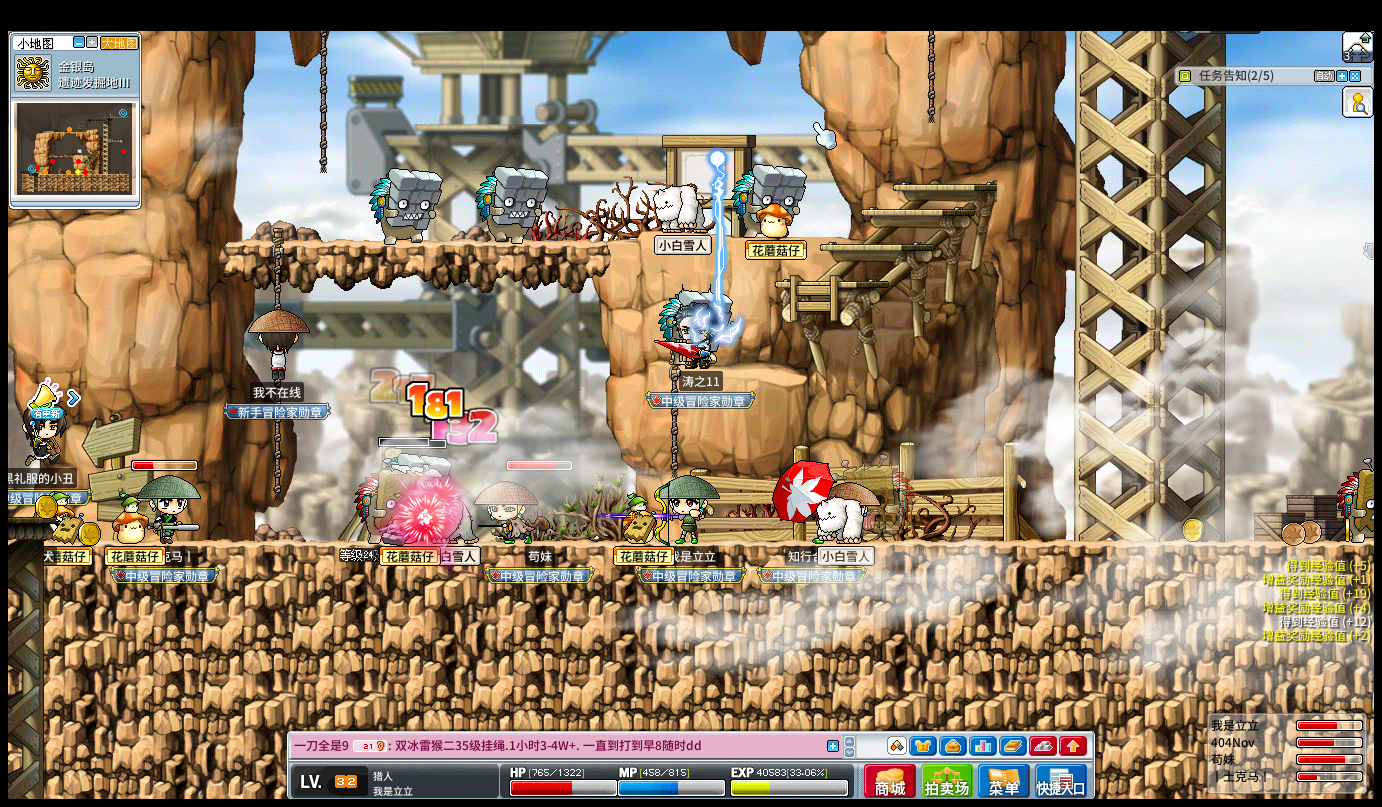floor: (44, 536, 1372, 555), (226, 238, 614, 252), (718, 364, 810, 384), (771, 280, 888, 290), (820, 243, 933, 252), (734, 232, 855, 240), (860, 207, 973, 215), (891, 184, 998, 192), (7, 517, 57, 524)
monster: (475, 165, 548, 242), (369, 168, 442, 244), (1335, 463, 1381, 542), (730, 164, 808, 206)
rope: (318, 32, 327, 175), (271, 419, 285, 502), (272, 226, 285, 308), (924, 31, 935, 122), (670, 407, 682, 473)
